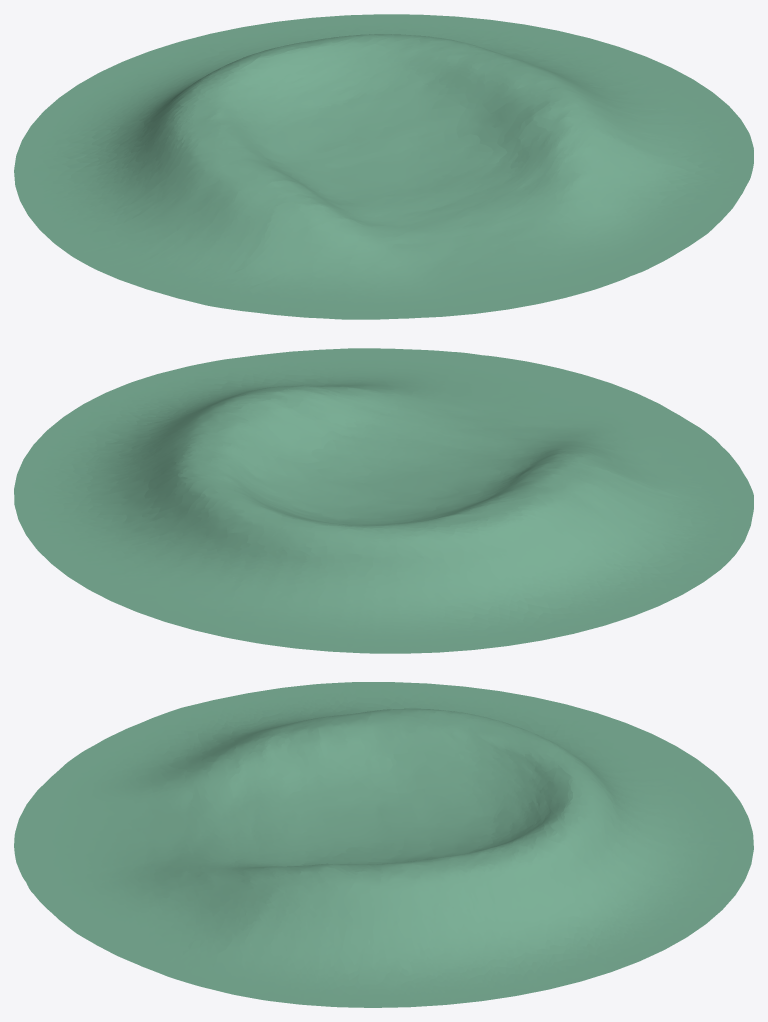
Rendered from island_circular_E_B.fbx.
3 views of the same model, one above another, from view 1: azimuth 30°, elevation 25°; view 2: azimuth 150°, elevation 25°; view 3: azimuth 270°, elevation 25° (orthographic). The views are drawn at different scales.
Visible parts, largest first — view 1: island_circular_E_B; view 2: island_circular_E_B; view 3: island_circular_E_B.
Boxes of the visible parts, x1,y1,x2,y2 form: island_circular_E_B: [14, 14, 753, 319]; island_circular_E_B: [14, 348, 753, 653]; island_circular_E_B: [14, 682, 753, 1007].
Size of the model in its own units: 29366 by 2185 by 28171.
